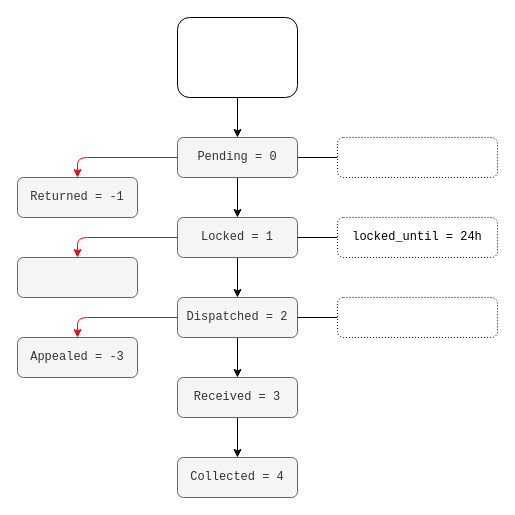
The diagram is 515 pixels wide and 515 high, and some of its shapes have lost their labels. Here are the shapes that lost their labels. From the top down, the centre of each, then its label:
At point 237,57: "Midnight contract".
At point 417,157: "pending_until = 1h".
At point 77,277: "Canceled = -2".
At point 417,317: "dispatched_until = delivery_date".
